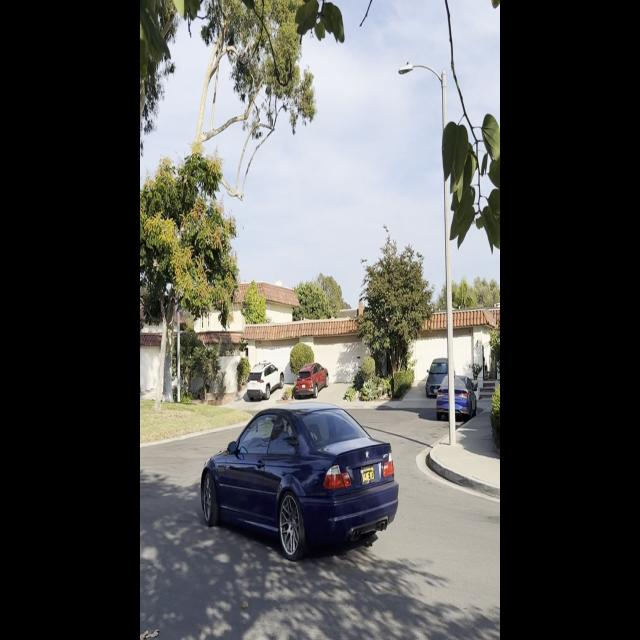Carbeetle: (197, 393, 403, 563)
Civilian: (436, 375, 475, 421), (246, 362, 285, 401), (426, 351, 457, 398), (292, 364, 324, 399)
